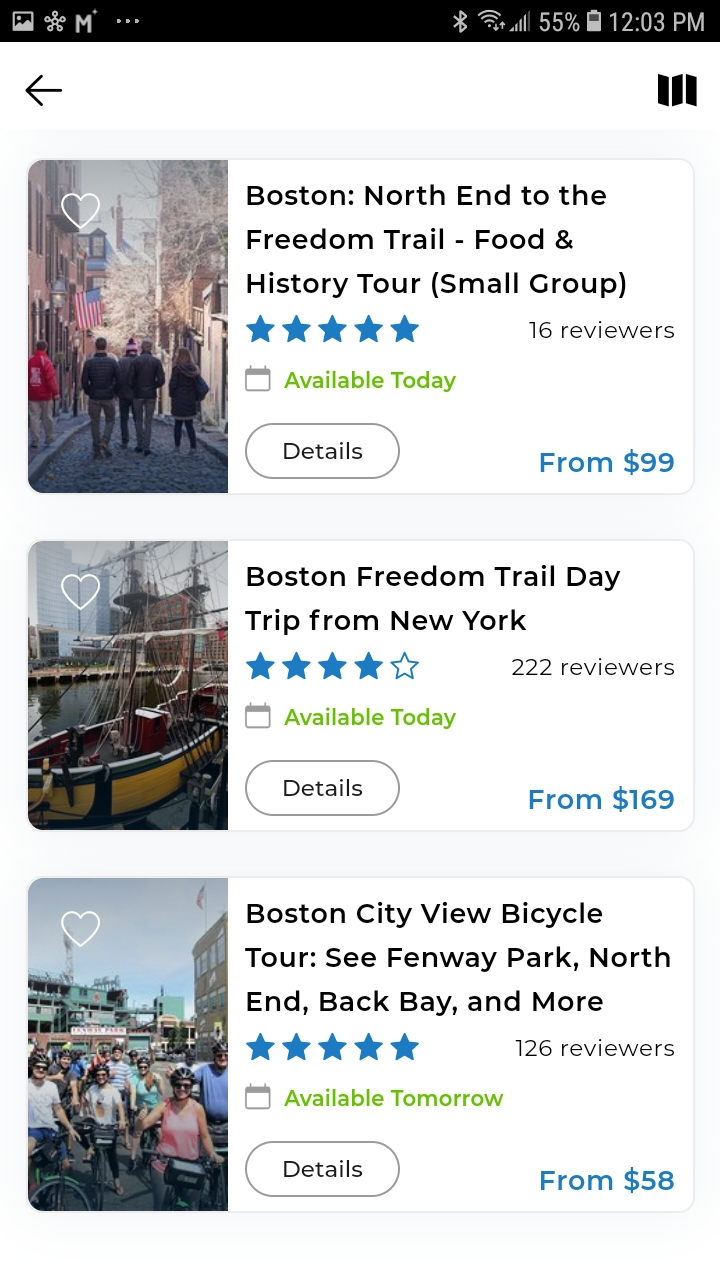Icon: (246, 651, 420, 681), (246, 1032, 420, 1061), (246, 315, 420, 344), (62, 911, 101, 948), (62, 575, 101, 611), (62, 194, 101, 230), (658, 75, 697, 108), (26, 75, 64, 108), (245, 1082, 272, 1110), (245, 702, 272, 730), (245, 365, 272, 393)
Image: (29, 878, 229, 1211), (29, 161, 229, 494), (28, 541, 229, 831)
Text: (245, 902, 670, 1016), (247, 185, 626, 300), (244, 565, 621, 636), (285, 1088, 504, 1107), (284, 707, 457, 730), (284, 370, 457, 393), (530, 787, 674, 813), (540, 449, 675, 476), (541, 1167, 675, 1193), (511, 658, 674, 676), (515, 1039, 675, 1057), (530, 322, 675, 340)
TextButton: (245, 1141, 401, 1198), (245, 760, 401, 817), (245, 423, 401, 480)
UpperTaskBar: (1, 1, 720, 43)
